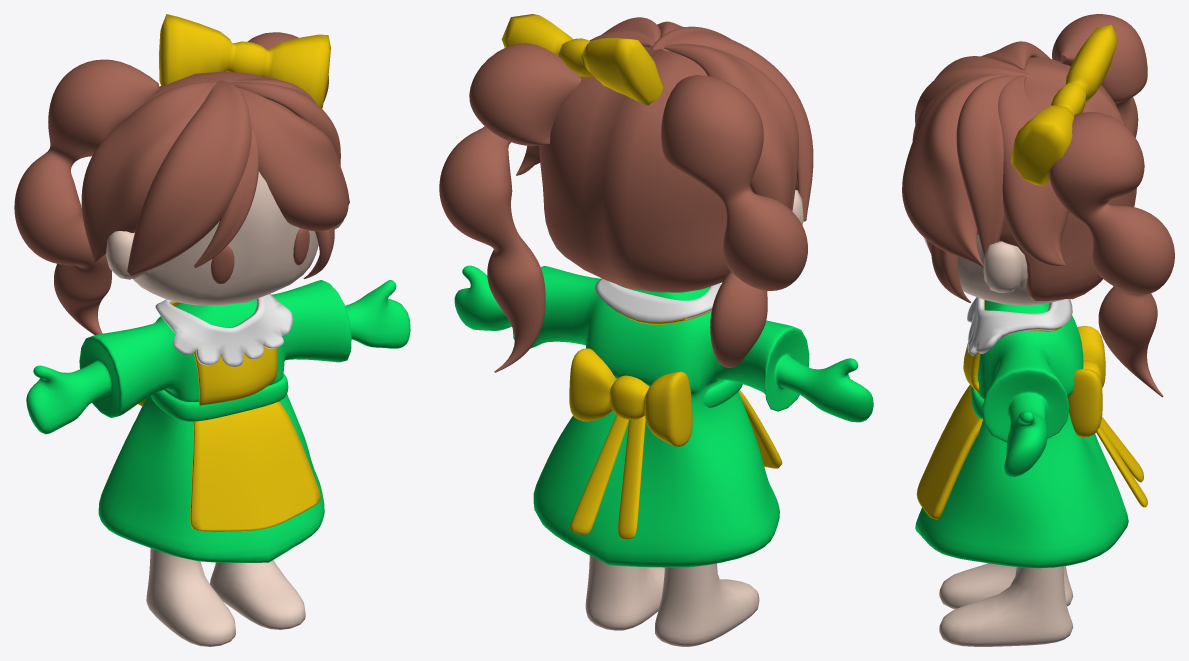
Rendered from main_character_band 1.fbx.
The picture shows the model from 3 angles, left to right: view 1: azimuth 30°, elevation 25°; view 2: azimuth 150°, elevation 25°; view 3: azimuth 270°, elevation 25°; orthographic projection. The views are drawn at different scales.
Parts seen in each view (by area): view 1: NurbsPath, Cube.001, NurbsPath.001, Cube.003, Cube, Cube.008, Cube.006, Cube.004, Cube.002, Sphere, Cube.005; view 2: Cube.001, Cube.005, NurbsPath.001, NurbsPath.002, NurbsPath, Cube.008, Cube.007, Cube.006, Cube.004, Plane, Plane.001, Cube.003 (+1 smaller); view 3: Cube.001, NurbsPath, NurbsPath.002, Cube.008, Cube.005, Cube.006, NurbsPath.001, Cube.003, Cube, Cube.004, Cube.007, Plane (+1 smaller).
Part boxes in pixels (box(x1,y1,x2,y2)): NurbsPath: box(81, 77, 349, 278); Cube.001: box(26, 280, 410, 562); NurbsPath.001: box(14, 59, 159, 334); Cube.003: box(171, 301, 320, 531); Cube: box(106, 171, 343, 305); Cube.008: box(146, 548, 305, 646); Cube.006: box(159, 14, 330, 108); Cube.004: box(155, 293, 292, 366); Cube.002: box(151, 374, 288, 421); Sphere: box(211, 228, 309, 284); Cube.005: box(129, 71, 293, 279); Cube.001: box(454, 265, 873, 567); Cube.005: box(539, 46, 752, 292); NurbsPath.001: box(661, 75, 807, 367); NurbsPath.002: box(439, 43, 581, 372); NurbsPath: box(516, 17, 813, 221); Cube.008: box(585, 555, 759, 646); Cube.007: box(569, 348, 692, 446); Cube.006: box(501, 14, 663, 105); Cube.004: box(595, 278, 720, 322); Plane: box(570, 415, 629, 534); Plane.001: box(618, 416, 645, 539); Cube.003: box(607, 286, 782, 468); Cube.001: box(915, 300, 1128, 568); NurbsPath: box(902, 41, 1068, 302); NurbsPath.002: box(1049, 112, 1174, 397); Cube.008: box(939, 563, 1073, 646); Cube.005: box(977, 57, 1136, 300); Cube.006: box(1011, 25, 1117, 186); NurbsPath.001: box(1052, 14, 1147, 137); Cube.003: box(916, 300, 1066, 519); Cube: box(923, 235, 1064, 305); Cube.004: box(967, 297, 1072, 355); Cube.007: box(1068, 325, 1105, 437); Plane: box(1096, 426, 1147, 507).
Bounding box in the file's own units: 121 × 173 × 72.19.
